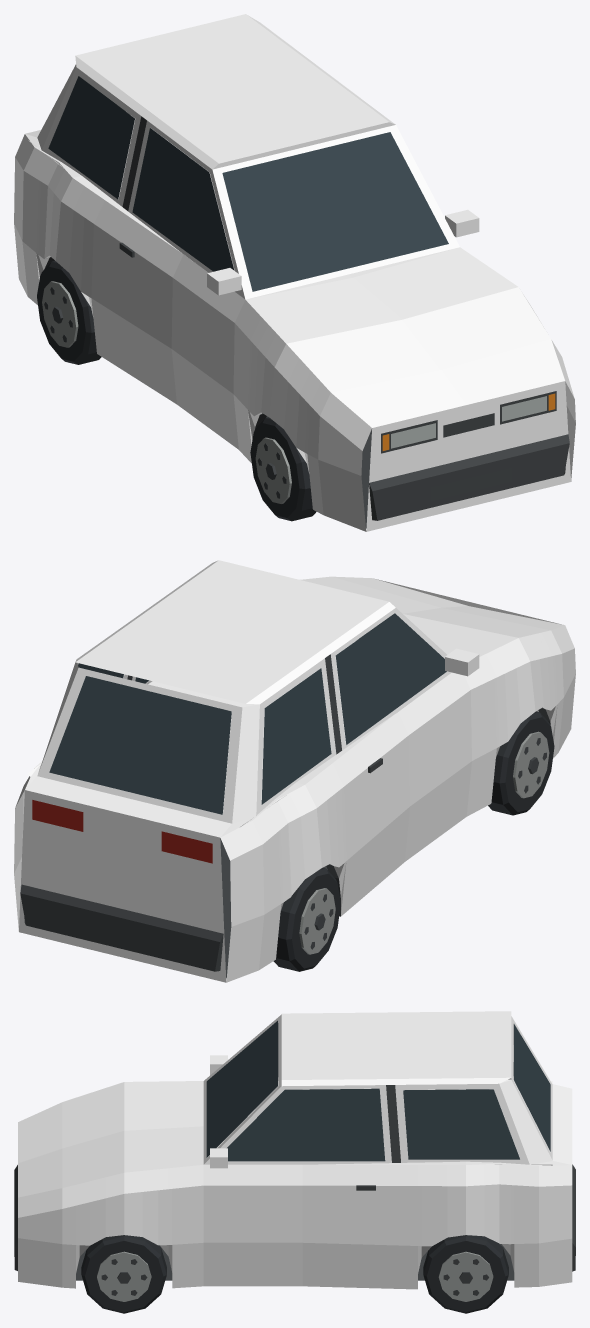
Rendered from mizuchi_hanabi_s_99.glb.
The picture shows the model from 3 angles, top to bottom: view 1: azimuth 30°, elevation 25°; view 2: azimuth 150°, elevation 25°; view 3: azimuth 270°, elevation 25°; orthographic projection. The views are drawn at different scales.
Parts seen in each view (by area): view 1: mizuchi_hanabi_s_99; view 2: mizuchi_hanabi_s_99; view 3: mizuchi_hanabi_s_99.
Part boxes in pixels (box(x1,y1,x2,y2)): mizuchi_hanabi_s_99: box(14, 14, 575, 531); mizuchi_hanabi_s_99: box(14, 560, 575, 982); mizuchi_hanabi_s_99: box(14, 1011, 575, 1313).
Size of the model in its own units: 1.61 by 1.6 by 3.68.
8 materials, 1 textured.
